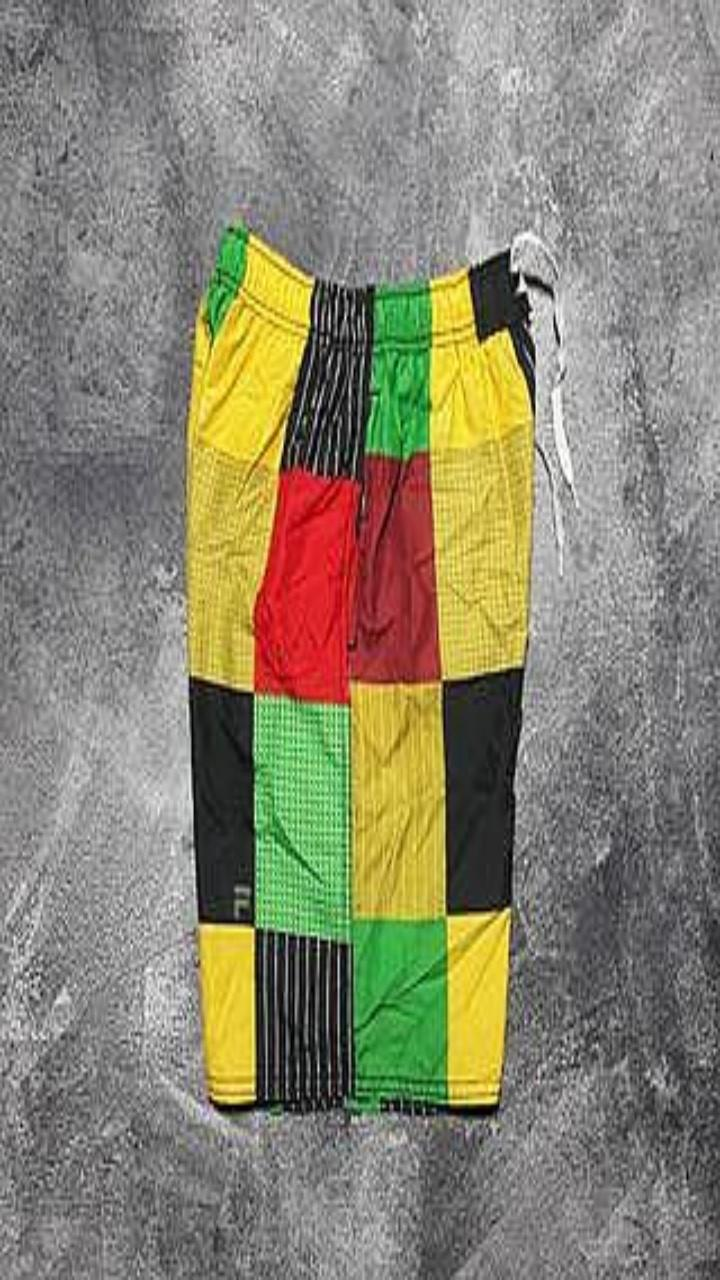Shorts: (187, 220, 534, 1110)
